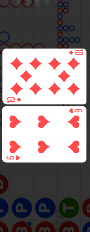10D: (5, 97, 22, 104)
5H: (5, 155, 21, 161)
